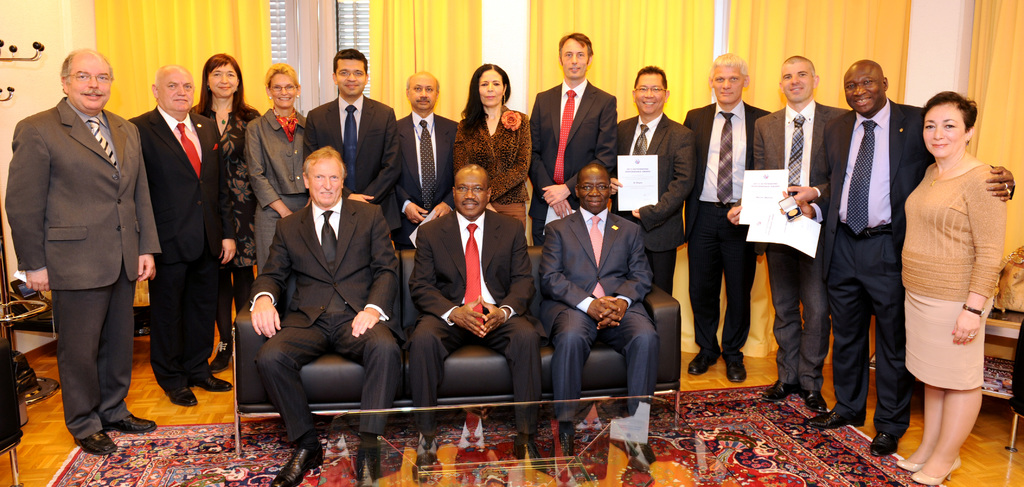Footwear: (267, 431, 325, 486), (913, 452, 965, 486), (803, 402, 856, 429), (69, 423, 114, 453), (161, 378, 200, 410), (892, 438, 932, 468), (109, 411, 156, 436), (358, 428, 378, 486), (868, 424, 899, 457), (198, 363, 227, 392), (719, 354, 744, 384), (685, 349, 714, 374), (806, 389, 829, 414), (760, 373, 783, 397)
